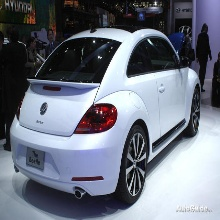no damage: (9, 26, 202, 204)
